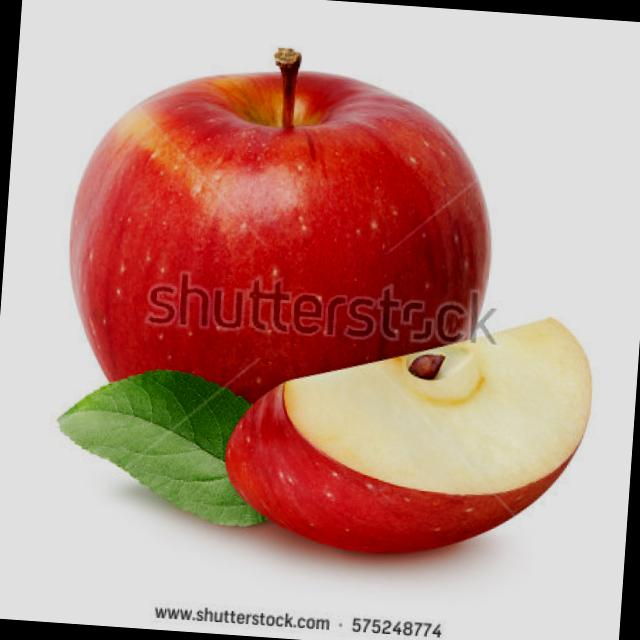apple: (46, 12, 516, 538)
